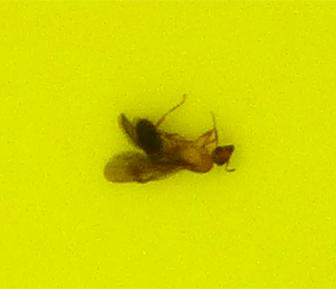Hymenoptera: (100, 100, 236, 189)
